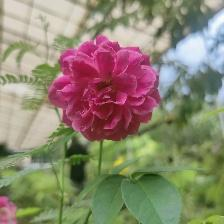rose: (47, 34, 164, 145)
